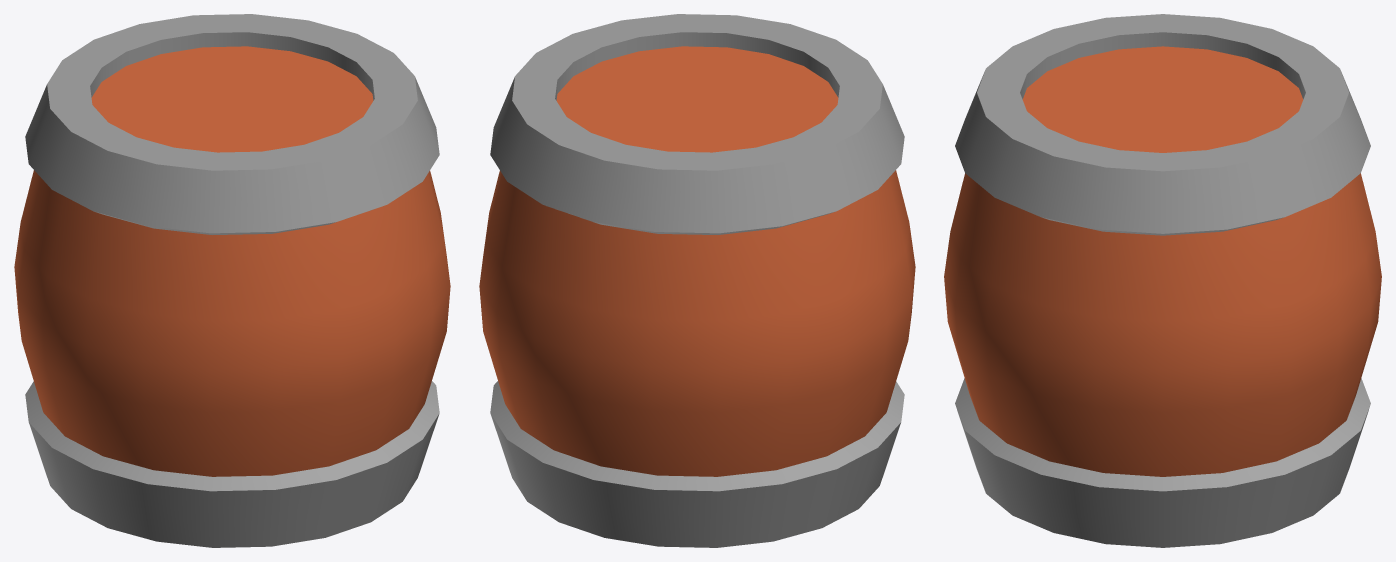
File: Barrel.fbx
3 views of the same model, side by side, from view 1: azimuth 30°, elevation 25°; view 2: azimuth 150°, elevation 25°; view 3: azimuth 270°, elevation 25° (orthographic).
Visible parts, largest first — view 1: Barrel; view 2: Barrel; view 3: Barrel.
Boxes of the visible parts, bbox=[...] form: Barrel: bbox=[14, 14, 450, 547]; Barrel: bbox=[479, 14, 915, 547]; Barrel: bbox=[944, 14, 1381, 547].
Bounding box in the file's own units: 100 × 95.1 × 100.
